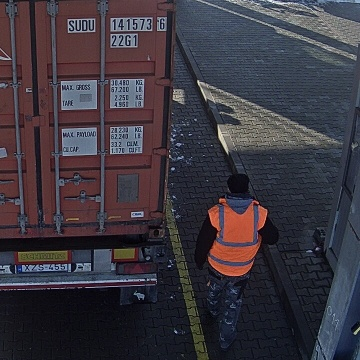serial_id: (69, 18, 165, 31)
